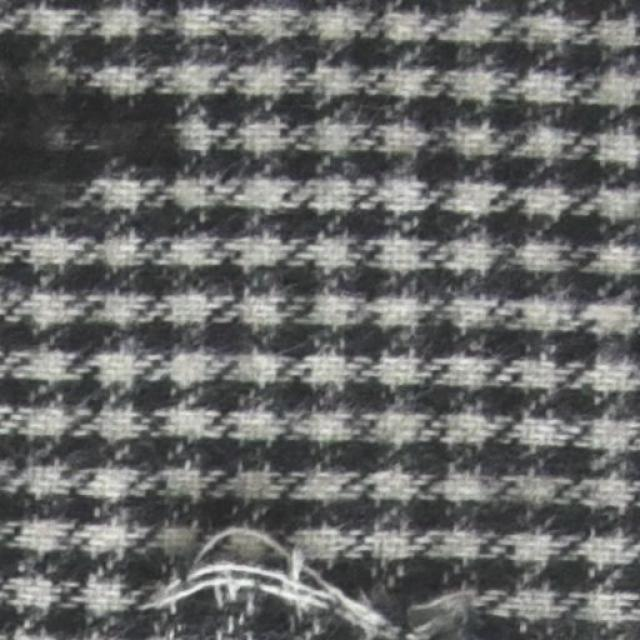Snag: (142, 538, 537, 640)
Stain: (0, 24, 198, 233)
